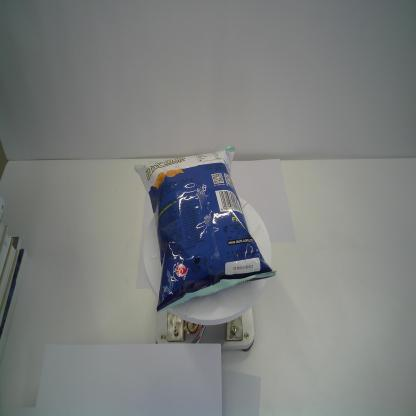Puffed Food: (134, 143, 278, 314)
